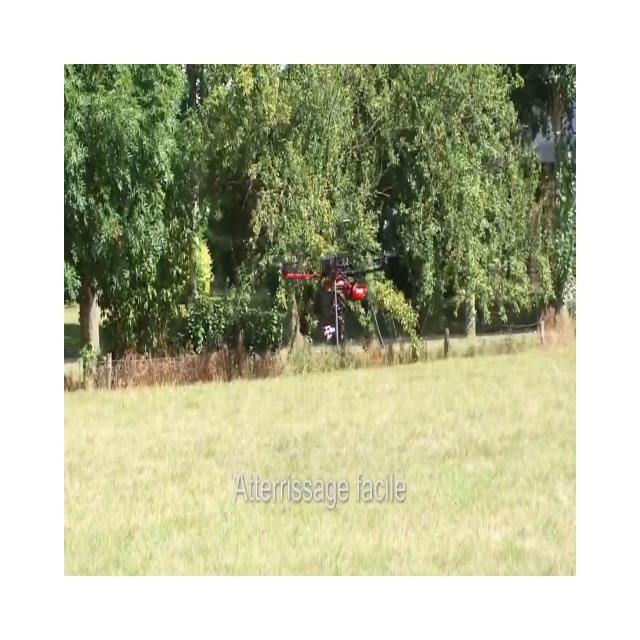drone: (278, 248, 398, 354)
